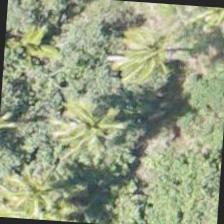Kelapa_Sawit: (100, 4, 196, 100), (49, 75, 145, 171), (0, 169, 94, 222), (176, 4, 223, 58)
